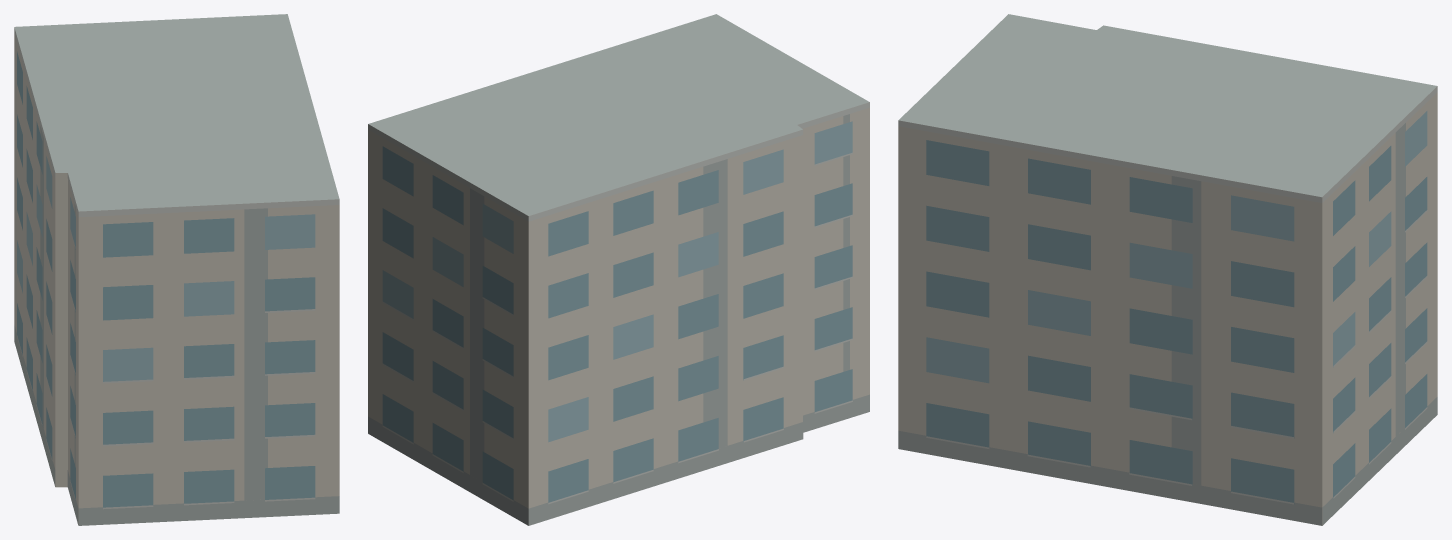
File: survey-upis-32531113.glb
The picture shows the model from 3 angles, left to right: view 1: azimuth 30°, elevation 25°; view 2: azimuth 150°, elevation 25°; view 3: azimuth 270°, elevation 25°; orthographic projection. The views are drawn at different scales.
Parts seen in each view (by area): view 1: survey-upis-32531113.tmp; view 2: survey-upis-32531113.tmp; view 3: survey-upis-32531113.tmp.
Part boxes in pixels (x1,y1,x2,y2): survey-upis-32531113.tmp: [14, 14, 339, 525]; survey-upis-32531113.tmp: [368, 14, 869, 525]; survey-upis-32531113.tmp: [898, 14, 1437, 525].
Size of the model in its own units: 16.15 by 13.5 by 20.09.
